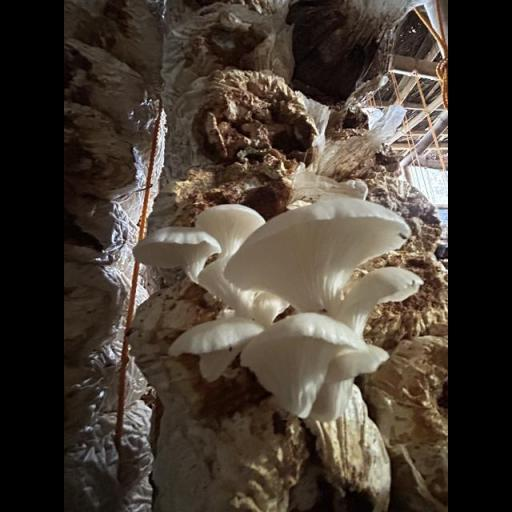White Oyster Mushroom: (128, 183, 422, 425)
